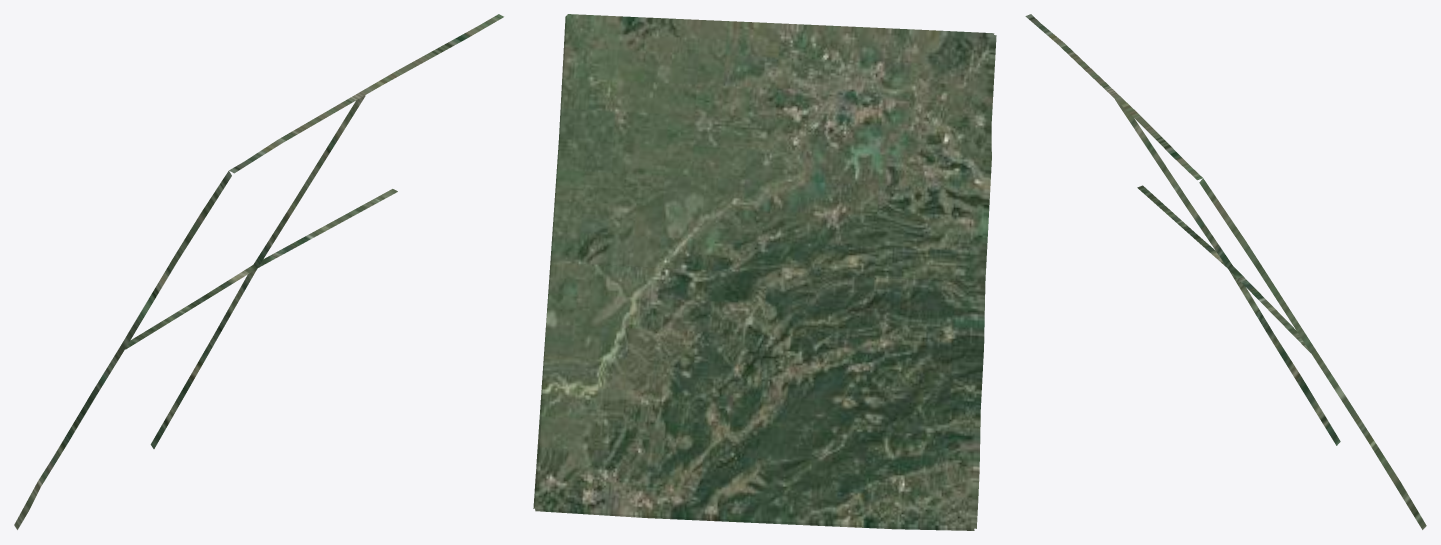
The picture shows the model from 3 angles, left to right: view 1: azimuth 30°, elevation 25°; view 2: azimuth 150°, elevation 25°; view 3: azimuth 270°, elevation 25°; orthographic projection. The views are drawn at different scales.
Size of the model in its own units: 315461 by 275544 by 255305.
Materials: 1 (1 with a texture image).
